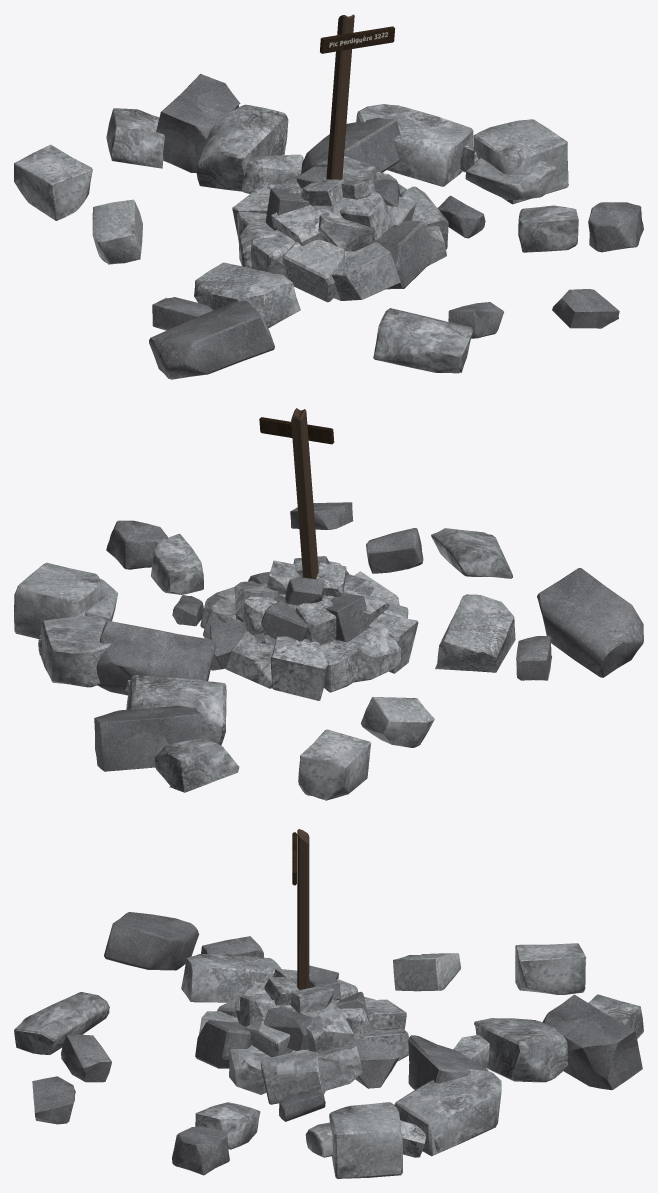
Rendered from cima-perdiguero.glb.
3 renders of one model, top to bottom at view 1: azimuth 30°, elevation 25°; view 2: azimuth 150°, elevation 25°; view 3: azimuth 270°, elevation 25°, orthographic. The views are drawn at different scales.
Parts seen in each view (by area): view 1: hito_granito_gris, bloque7, bloque4, bloque6, bloque8, bloque0, hito_caliza_gris, bloque15, bloque2, bloque19, bloque9, bloque5 (+11 smaller); view 2: hito_granito_gris, bloque7, bloque9, bloque0, hito_caliza_gris, bloque2, bloque15, bloque6, bloque19, bloque4, bloque5, bloque21 (+10 smaller); view 3: hito_granito_gris, hito_caliza_gris, bloque6, bloque0, bloque15, bloque4, bloque7, bloque2, bloque8, bloque19, bloque9, bloque21 (+11 smaller).
Part boxes in pixels (<box>): hito_granito_gris: <box>232,156,448,302</box>; bloque7: <box>149,300,274,379</box>; bloque4: <box>196,104,288,191</box>; bloque6: <box>356,104,473,186</box>; bloque8: <box>373,308,472,373</box>; bloque0: <box>156,74,240,172</box>; hito_caliza_gris: <box>265,166,432,289</box>; bloque15: <box>473,119,568,204</box>; bloque2: <box>194,262,300,328</box>; bloque19: <box>14,144,92,220</box>; bloque9: <box>301,118,400,173</box>; bloque5: <box>106,108,164,168</box>; hito_granito_gris: <box>200,556,418,700</box>; bloque7: <box>537,568,643,677</box>; bloque9: <box>96,621,216,695</box>; bloque0: <box>94,706,202,771</box>; hito_caliza_gris: <box>210,570,369,670</box>; bloque2: <box>435,594,515,672</box>; bloque15: <box>14,562,105,639</box>; bloque6: <box>40,615,110,687</box>; bloque19: <box>298,729,371,800</box>; bloque4: <box>126,675,226,745</box>; bloque5: <box>155,736,239,792</box>; bloque21: <box>361,697,434,747</box>; hito_granito_gris: <box>199,968,408,1104</box>; hito_caliza_gris: <box>195,965,399,1088</box>; bloque6: <box>394,1069,501,1156</box>; bloque0: <box>542,994,642,1090</box>; bloque15: <box>329,1102,402,1178</box>; bloque4: <box>474,1018,568,1082</box>; bloque7: <box>104,912,199,970</box>; bloque2: <box>181,954,281,1002</box>; bloque8: <box>14,992,109,1054</box>; bloque19: <box>515,943,586,994</box>; bloque9: <box>408,1035,488,1089</box>; bloque21: <box>393,953,460,991</box>.
Size of the model in its own units: 4.31 by 2.06 by 4.82.
Materials: 4 (3 with a texture image).
